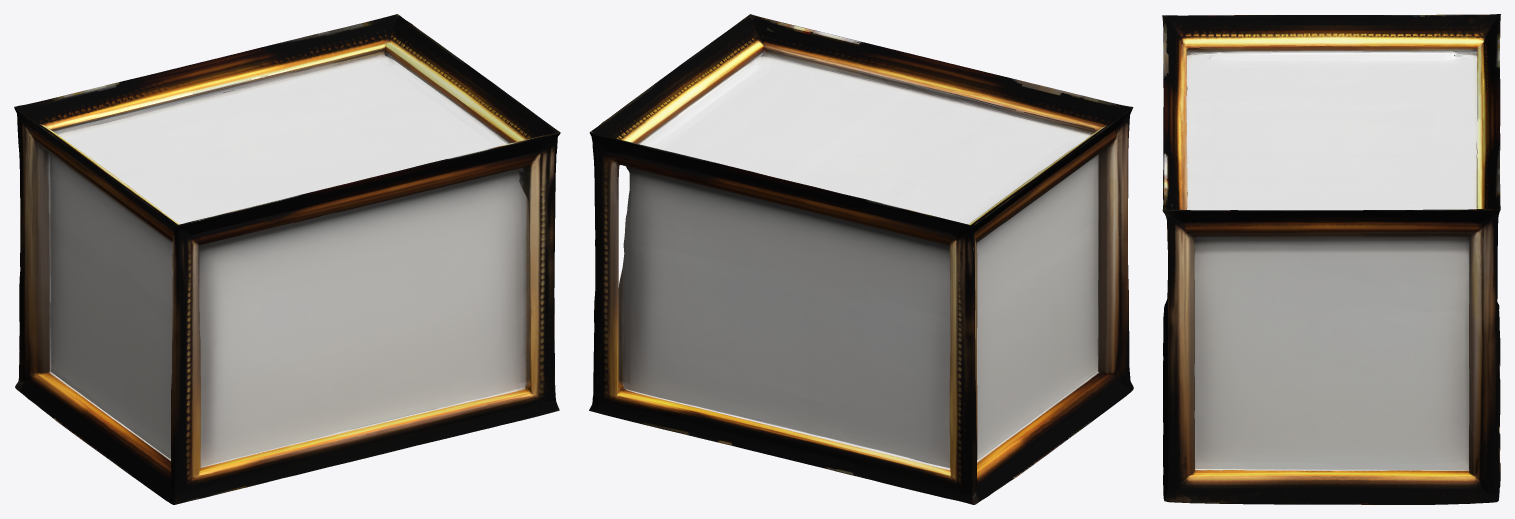
File: wooden-photo-frame-vintage.jpeg.glb
The picture shows the model from 3 angles, left to right: view 1: azimuth 30°, elevation 25°; view 2: azimuth 150°, elevation 25°; view 3: azimuth 270°, elevation 25°; orthographic projection. The views are drawn at different scales.
Visible parts, largest first — view 1: world; view 2: world; view 3: world.
Boxes of the visible parts, <box> form: world: <box>14,14,560,504</box>; world: <box>589,14,1133,504</box>; world: <box>1162,14,1500,504</box>.
Bounding box in the file's own units: 1 × 0.7028 × 0.7302.
Materials: 1 (1 with a texture image).
